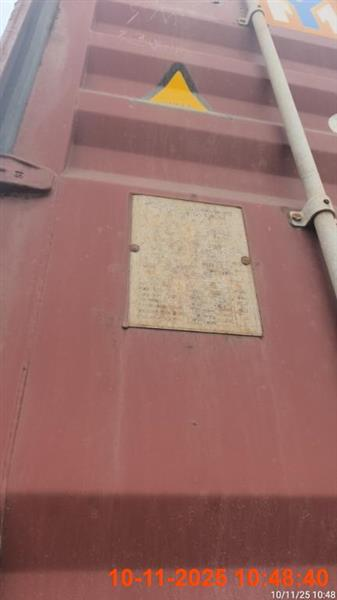rust: (34, 60, 304, 540)
